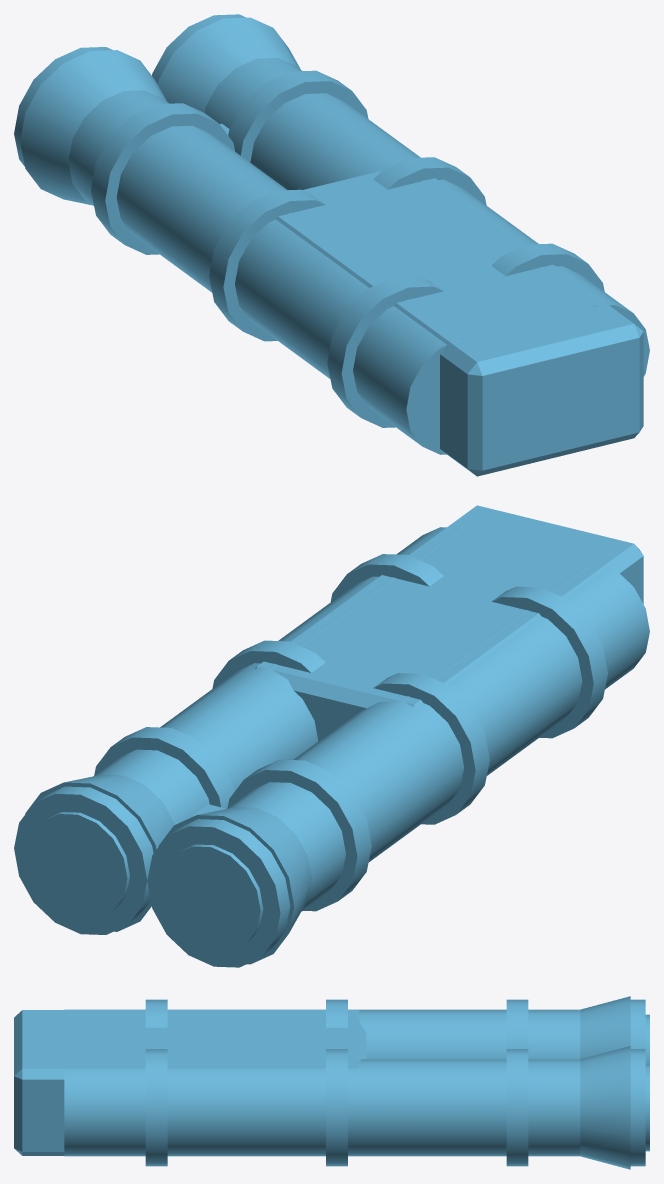
The model's file is pd_laser_lens.glb.
3 renders of one model, top to bottom at view 1: azimuth 30°, elevation 25°; view 2: azimuth 150°, elevation 25°; view 3: azimuth 270°, elevation 25°, orthographic. The views are drawn at different scales.
Visible parts, largest first — view 1: pd_laser_lens; view 2: pd_laser_lens; view 3: pd_laser_lens.
Part boxes in pixels (<box>): pd_laser_lens: <box>14,14,649,476</box>; pd_laser_lens: <box>14,505,649,967</box>; pd_laser_lens: <box>14,996,649,1169</box>.
Bounding box in the file's own units: 0.288 × 0.148 × 0.758.
